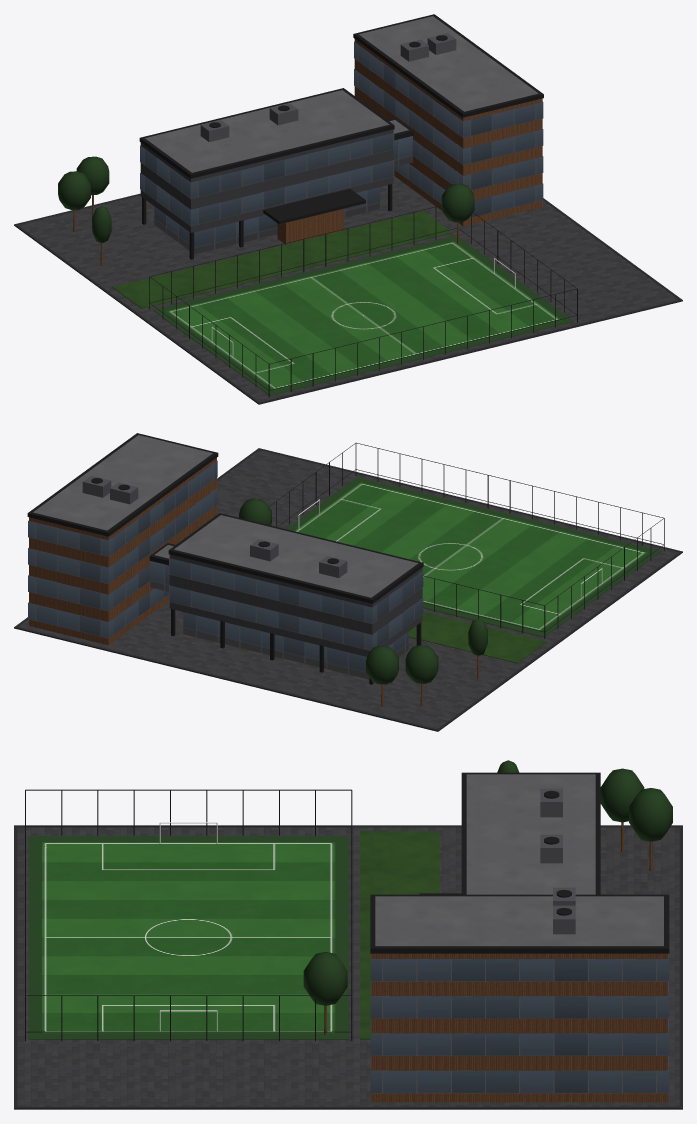
The model's file is academy_L4.glb.
3 views of the same model, one above another, from view 1: azimuth 30°, elevation 25°; view 2: azimuth 150°, elevation 25°; view 3: azimuth 270°, elevation 25° (orthographic). The views are drawn at different scales.
Parts seen in each view (by area): view 1: turf_acad_academy_L4, paving_academy_L4, emissive_curtain_academy_L4, roofing_academy_L4, black_metal_academy_L4, lawn_academy_L4, wood_academy_L4, cladding_academy_L4, foliage_academy_L4, concrete_dark_academy_L4, steel_academy_L4; view 2: turf_acad_academy_L4, paving_academy_L4, emissive_curtain_academy_L4, roofing_academy_L4, black_metal_academy_L4, wood_academy_L4, cladding_academy_L4, foliage_academy_L4, concrete_dark_academy_L4, lawn_academy_L4, steel_academy_L4; view 3: turf_acad_academy_L4, paving_academy_L4, roofing_academy_L4, emissive_curtain_academy_L4, wood_academy_L4, black_metal_academy_L4, lawn_academy_L4, concrete_dark_academy_L4, foliage_academy_L4, steel_academy_L4.
Boxes of the visible parts, left/top/right/bottom form: turf_acad_academy_L4: left=153, top=235, right=573, bottom=395; paving_academy_L4: left=18, top=176, right=678, bottom=401; emissive_curtain_academy_L4: left=140, top=41, right=543, bottom=254; roofing_academy_L4: left=145, top=16, right=538, bottom=172; black_metal_academy_L4: left=139, top=14, right=577, bottom=397; lawn_academy_L4: left=112, top=211, right=452, bottom=308; wood_academy_L4: left=73, top=39, right=542, bottom=265; cladding_academy_L4: left=140, top=129, right=393, bottom=232; foliage_academy_L4: left=58, top=156, right=474, bottom=243; concrete_dark_academy_L4: left=14, top=193, right=682, bottom=404; steel_academy_L4: left=200, top=33, right=456, bottom=142; turf_acad_academy_L4: left=286, top=477, right=660, bottom=637; paving_academy_L4: left=18, top=450, right=678, bottom=728; emissive_curtain_academy_L4: left=28, top=460, right=423, bottom=679; roofing_academy_L4: left=33, top=435, right=418, bottom=597; black_metal_academy_L4: left=27, top=433, right=664, bottom=684; wood_academy_L4: left=29, top=458, right=479, bottom=706; cladding_academy_L4: left=169, top=554, right=422, bottom=656; foliage_academy_L4: left=239, top=498, right=487, bottom=684; concrete_dark_academy_L4: left=14, top=448, right=682, bottom=731; lawn_academy_L4: left=408, top=611, right=546, bottom=663; steel_academy_L4: left=82, top=475, right=347, bottom=577; turf_acad_academy_L4: left=28, top=836, right=348, bottom=1039; paving_academy_L4: left=17, top=827, right=679, bottom=1106; roofing_academy_L4: left=375, top=774, right=663, bottom=946; emissive_curtain_academy_L4: left=370, top=953, right=668, bottom=1093; wood_academy_L4: left=324, top=822, right=667, bottom=1102; black_metal_academy_L4: left=25, top=772, right=669, bottom=1041; lawn_academy_L4: left=360, top=831, right=439, bottom=1039; concrete_dark_academy_L4: left=14, top=825, right=682, bottom=1109; foliage_academy_L4: left=303, top=760, right=672, bottom=1005; steel_academy_L4: left=540, top=788, right=575, bottom=934.
Bounding box in the file's own units: 58.6 × 16.64 × 58.6.
12 materials, 7 textured.
